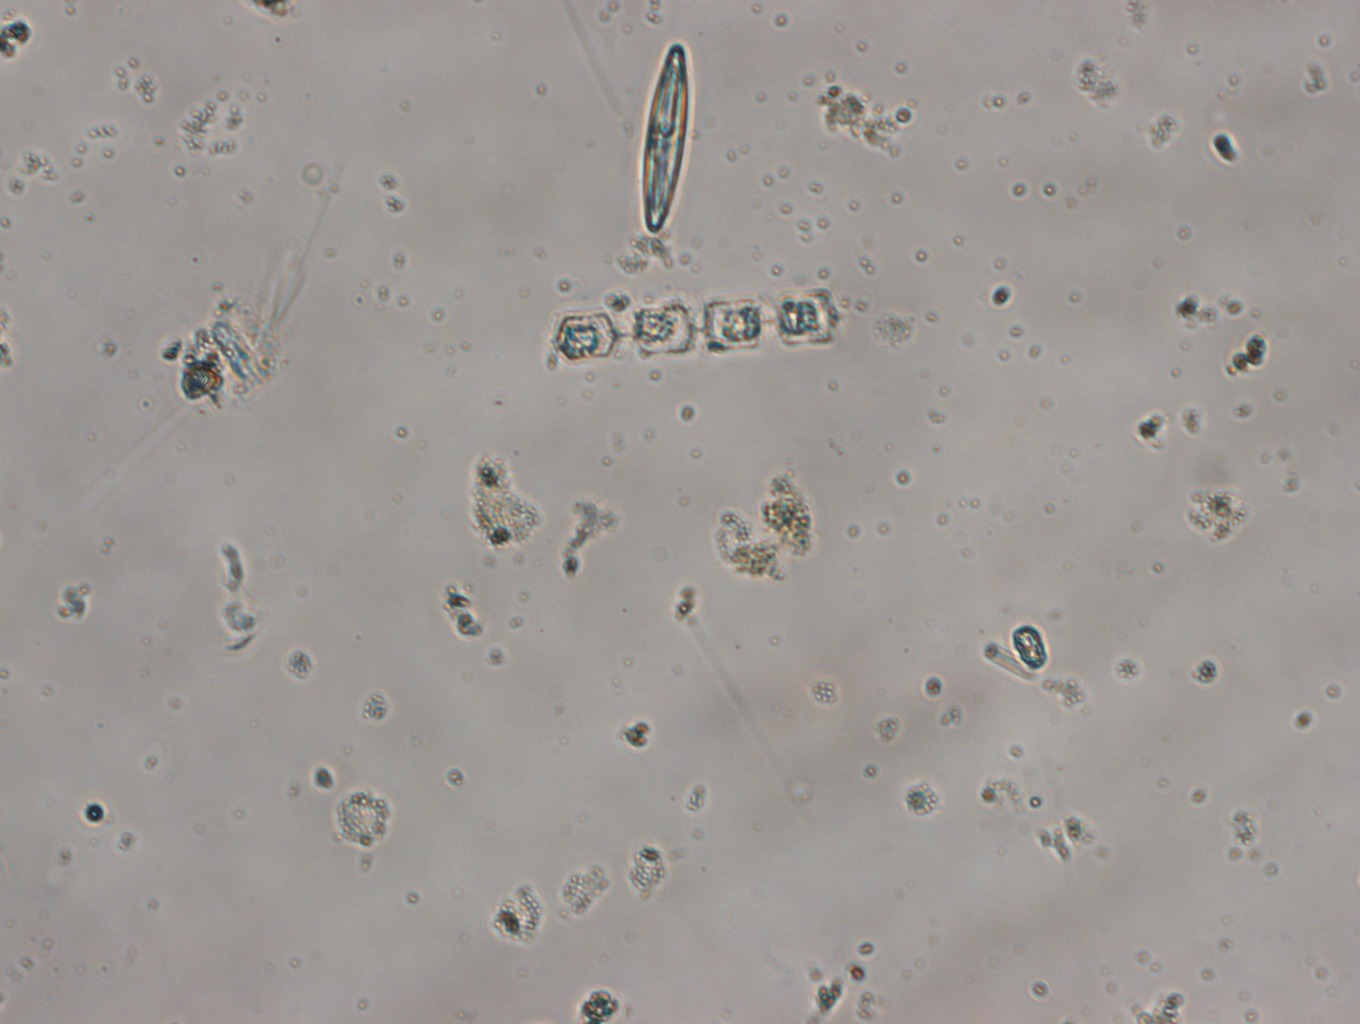chaetoceros: (552, 286, 838, 362)
navicula: (638, 40, 695, 234)
